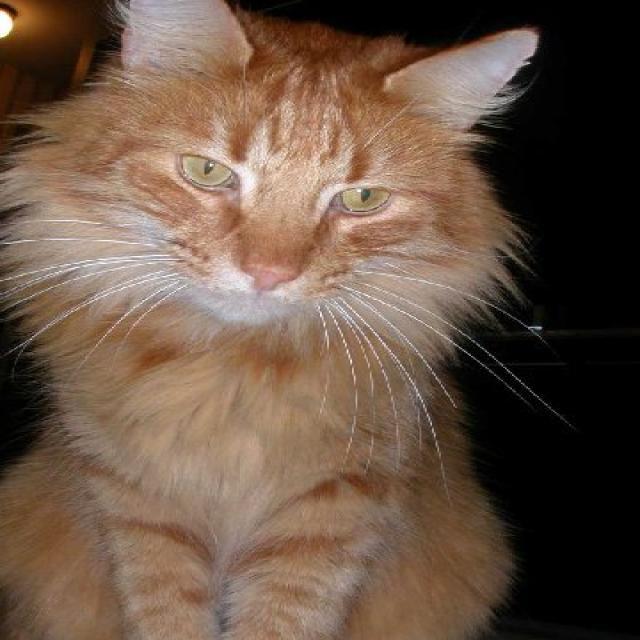Maine Coon: (0, 0, 546, 640)
